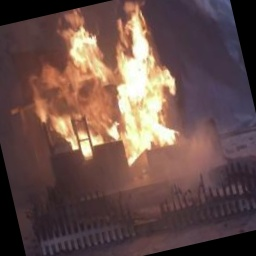fire: (0, 0, 207, 199)
